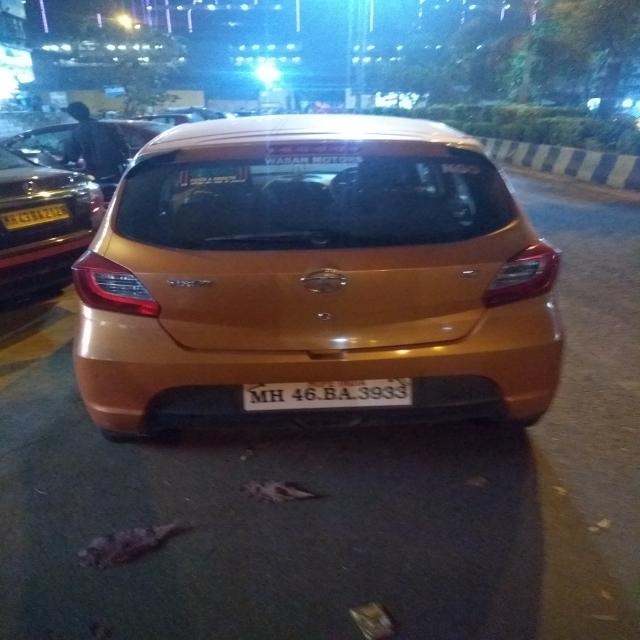Number-Plate: (240, 380, 410, 409)
